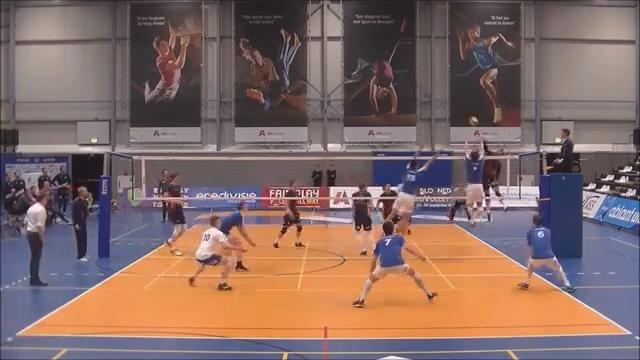attacco: (481, 135, 510, 215)
muro: (370, 146, 448, 247), (460, 130, 490, 229)
